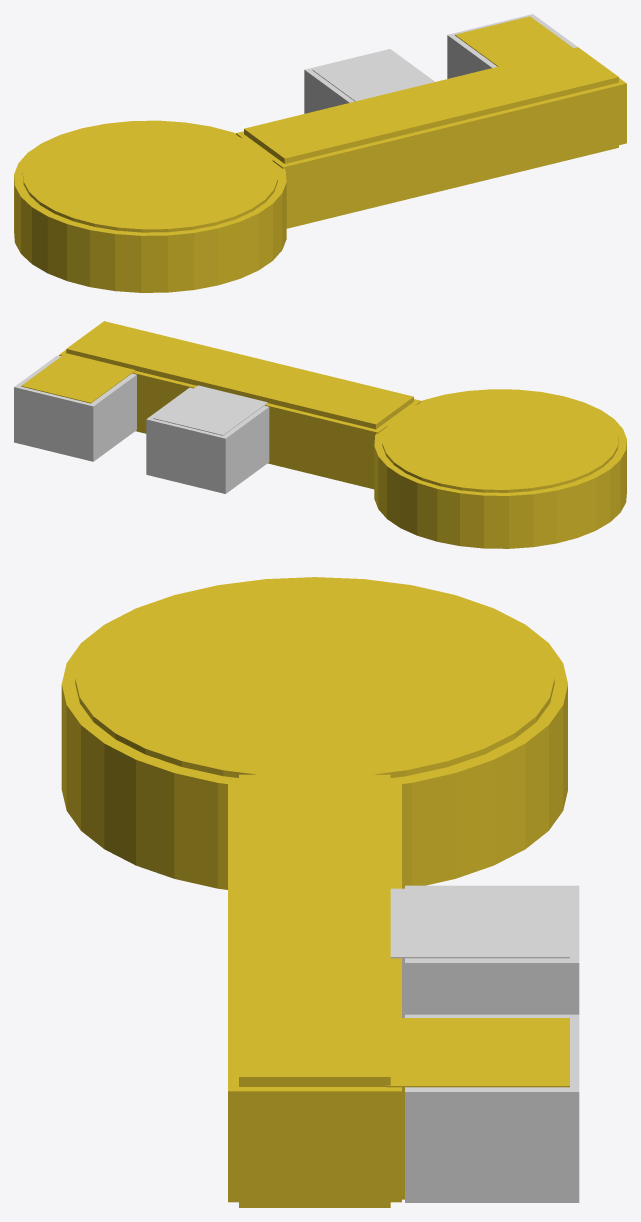
Rendered from keymodel.fbx.
The picture shows the model from 3 angles, top to bottom: view 1: azimuth 30°, elevation 25°; view 2: azimuth 150°, elevation 25°; view 3: azimuth 270°, elevation 25°; orthographic projection. The views are drawn at different scales.
Visible parts, largest first — view 1: Cylinder.001, Cube, Cylinder, Cube.003, Cube.004, Cube.002, Cube.001, Cube.005; view 2: Cylinder.001, Cylinder, Cube.003, Cube, Cube.001, Cube.005, Cube.002, Cube.004; view 3: Cylinder.001, Cube.003, Cylinder, Cube, Cube.005, Cube.004, Cube.002, Cube.001.
Part boxes in pixels (box(x1,y1,x2,y2)): Cylinder.001: box(22, 120, 277, 232); Cube: box(236, 78, 626, 226); Cylinder: box(14, 120, 286, 292); Cube.003: box(244, 47, 618, 228); Cube.004: box(312, 51, 430, 101); Cube.002: box(455, 16, 573, 66); Cube.001: box(304, 49, 434, 113); Cube.005: box(447, 14, 577, 78); Cylinder.001: box(382, 389, 618, 492); Cylinder: box(374, 389, 626, 548); Cube.003: box(66, 321, 413, 489); Cube: box(59, 350, 421, 486); Cube.001: box(146, 387, 269, 493); Cube.005: box(14, 355, 136, 461); Cube.002: box(21, 353, 135, 403); Cube.004: box(153, 385, 267, 435); Cylinder.001: box(75, 578, 554, 777); Cube.003: box(239, 774, 390, 1207); Cylinder: box(61, 577, 567, 889); Cube: box(228, 780, 401, 1202); Cube.005: box(405, 1014, 579, 1202); Cube.004: box(390, 888, 569, 1017); Cube.002: box(386, 1018, 569, 1199); Cube.001: box(405, 885, 579, 1014).
Bounding box in the file's own units: 484 × 57.07 × 204.
